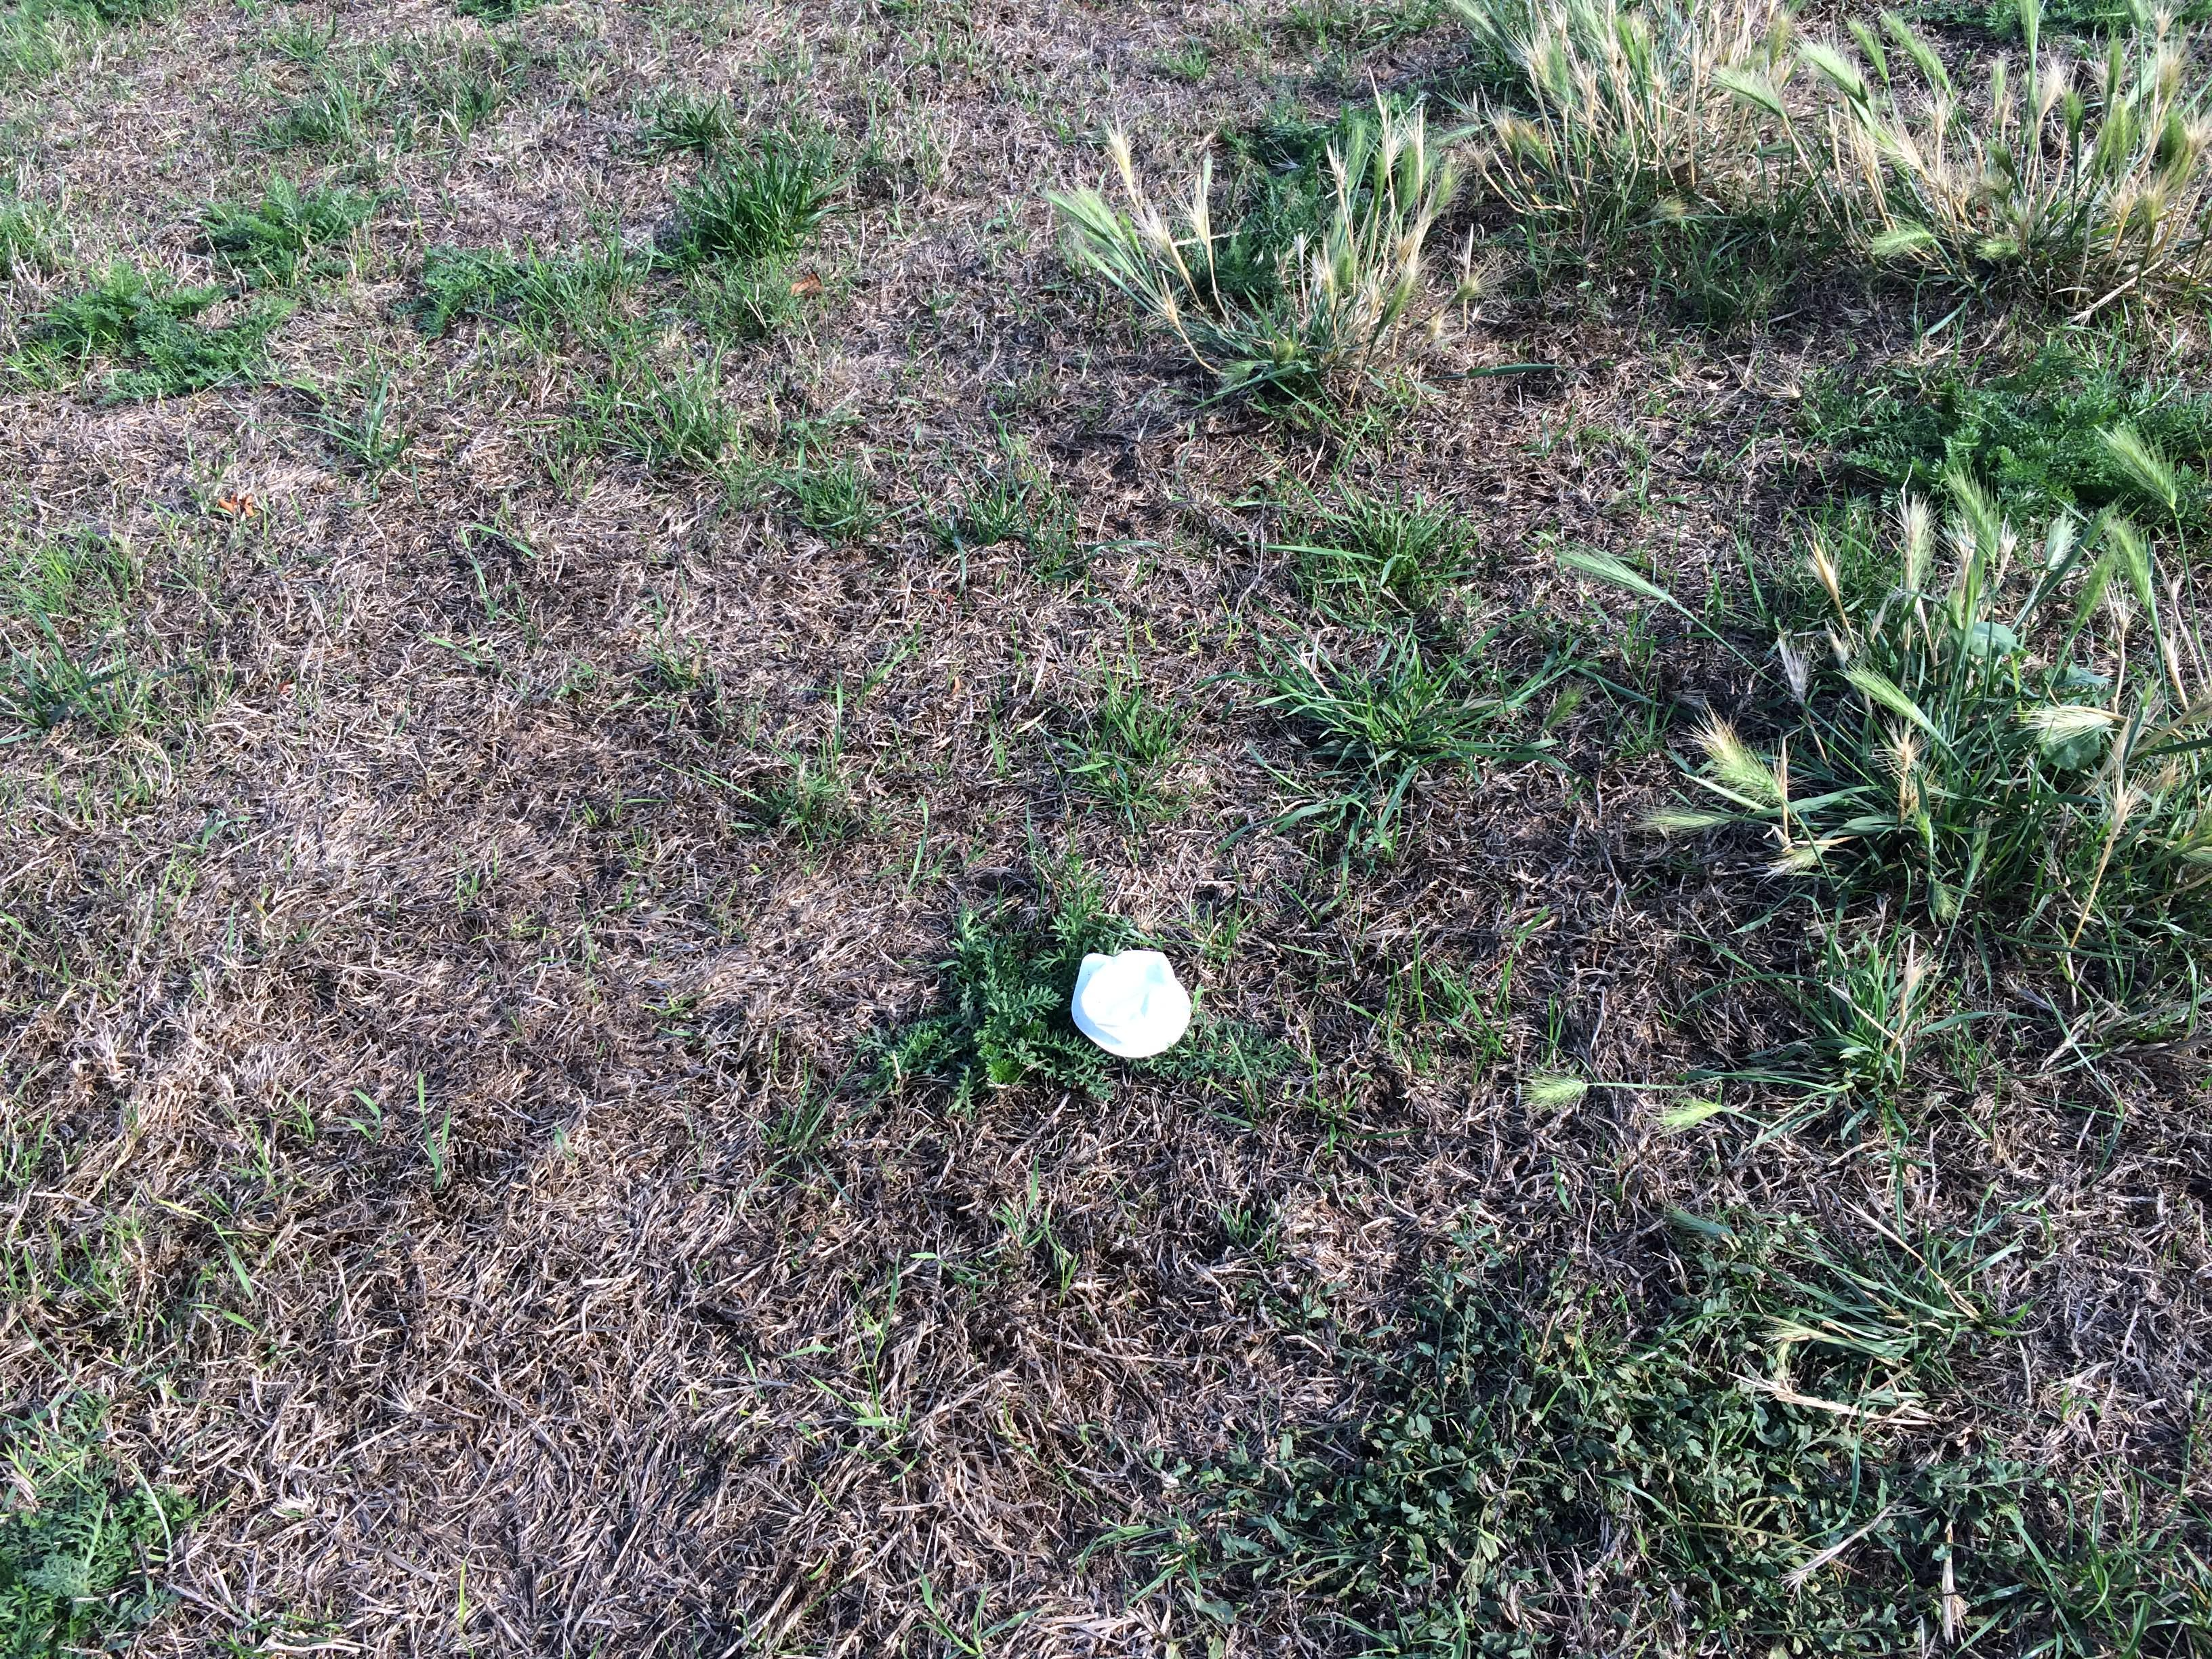Trash: (1066, 943, 1195, 1060)
